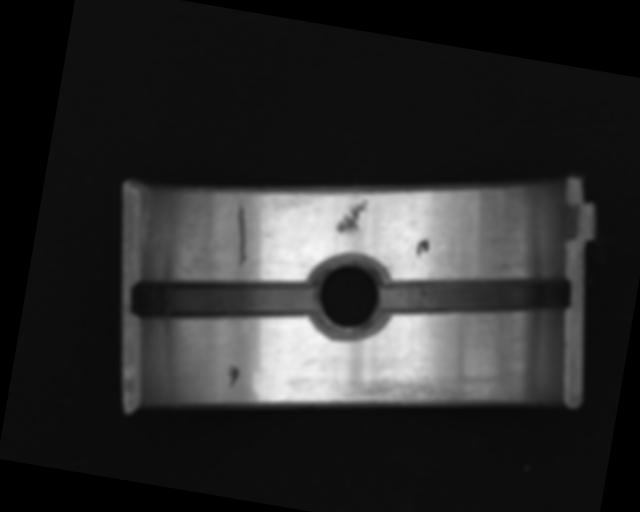blot: (413, 236, 432, 260)
bruise: (335, 195, 369, 237), (225, 364, 240, 389)
gap: (377, 250, 573, 342), (130, 253, 317, 343)
hole: (302, 252, 394, 345)
nick: (227, 197, 256, 268)
scratch: (339, 352, 503, 428)
